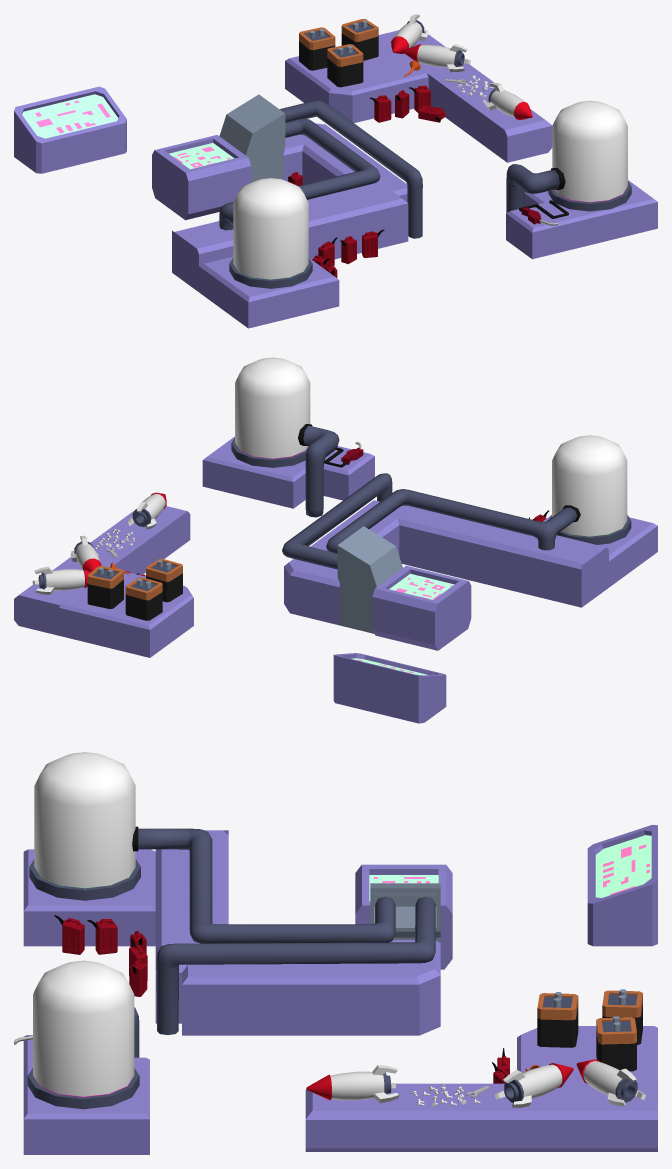
The model's file is Fuel tile 2.fbx.
The picture shows the model from 3 angles, top to bottom: view 1: azimuth 30°, elevation 25°; view 2: azimuth 150°, elevation 25°; view 3: azimuth 270°, elevation 25°; orthographic projection. The views are drawn at different scales.
Visible parts, largest first — view 1: Cube.112, Cube.116, Cylinder.005, Cylinder.004, Cube.105, Cube.115, Cube.012, Cube.106, Cube.107, Cube.109, Cube.111, Cube.110 (+9 smaller); view 2: Cube.112, Cylinder.004, Cube.115, Cylinder.005, Cube.105, Cube.116, Cube.012, Cube.107, Cube.110, Cube.109, Cube.111, Cube.113 (+9 smaller); view 3: Cube.112, Cube.105, Cylinder.004, Cylinder.005, Cube.111, Cube.110, Cube.116, Cube.012, Cube.106, Cube.115, Cube.107, Cube.109 (+11 smaller).
Boxes of the visible parts, x1,y1,x2,y2 form: Cube.112: (172, 123, 408, 291); Cube.116: (14, 86, 126, 173); Cylinder.005: (233, 178, 308, 279); Cylinder.004: (552, 100, 627, 202); Cube.105: (378, 30, 552, 162); Cube.115: (152, 135, 251, 220); Cube.012: (506, 180, 657, 259); Cube.106: (199, 256, 339, 328); Cube.107: (285, 38, 428, 123); Cube.109: (219, 94, 285, 182); Cube.111: (279, 100, 422, 238); Cube.110: (219, 118, 380, 230); Cube.112: (284, 500, 608, 625); Cylinder.004: (235, 357, 310, 458); Cube.115: (372, 565, 471, 650); Cylinder.005: (552, 435, 627, 536); Cube.105: (14, 506, 190, 635); Cube.116: (333, 653, 446, 723); Cube.012: (202, 436, 374, 508); Cube.107: (59, 572, 193, 657); Cube.110: (326, 489, 580, 553); Cube.109: (337, 526, 402, 633); Cube.111: (282, 473, 392, 569); Cube.113: (298, 424, 339, 517); Cube.112: (155, 830, 440, 1035); Cube.105: (305, 1083, 657, 1151); Cylinder.004: (33, 960, 134, 1096); Cylinder.005: (34, 752, 135, 888); Cube.111: (156, 896, 435, 1034); Cube.110: (132, 826, 395, 943); Cube.116: (587, 824, 657, 946); Cube.012: (23, 1035, 149, 1154); Cube.106: (23, 849, 155, 946); Cube.115: (355, 864, 452, 969); Cube.107: (517, 1026, 657, 1083); Cube.109: (370, 883, 440, 942).
Size of the model in its own units: 900 by 263 by 914.
